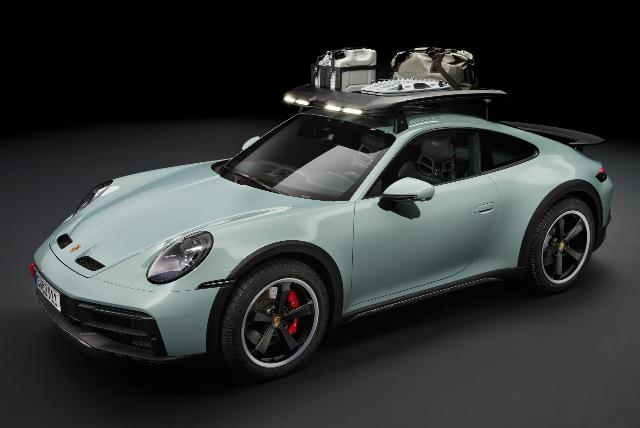porsche: (29, 83, 615, 380)
